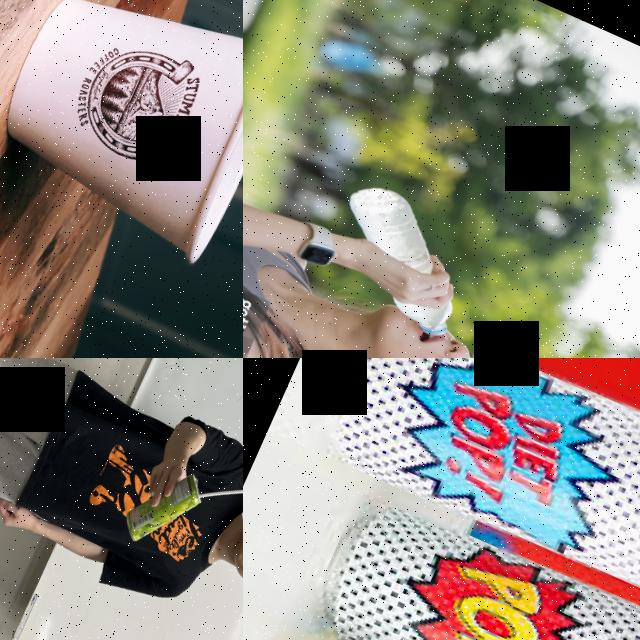bottle: (312, 172, 494, 345)
can: (290, 358, 640, 639), (289, 474, 640, 640), (117, 454, 211, 561)
cup: (0, 0, 243, 270)
